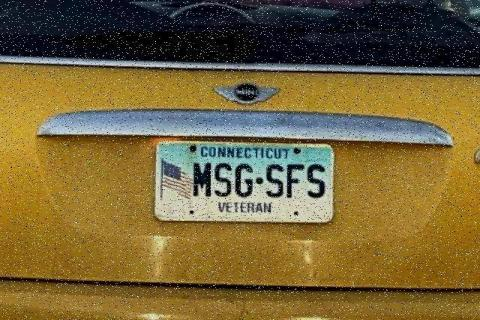LicensePlate: (150, 139, 335, 222)
